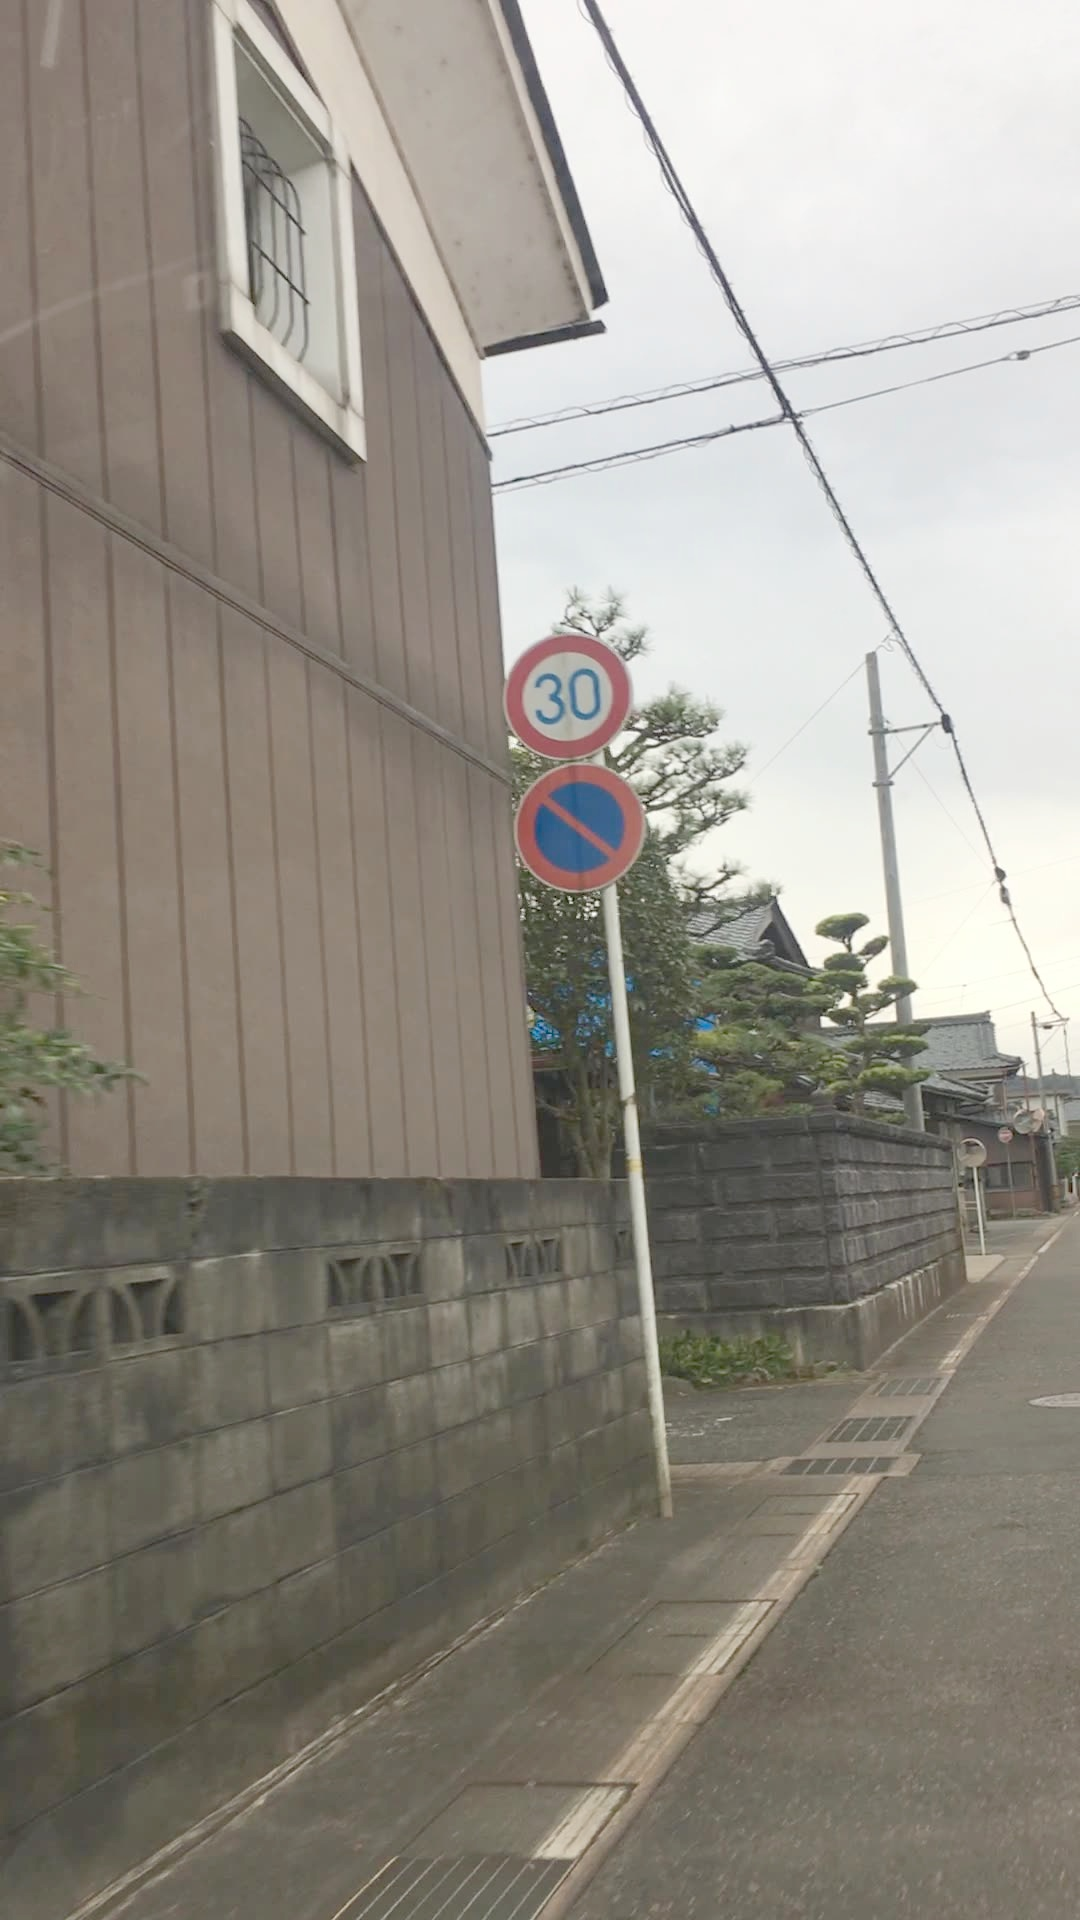Prohibition_sign: (510, 748, 646, 906)
Speed_sign: (498, 630, 646, 766)
